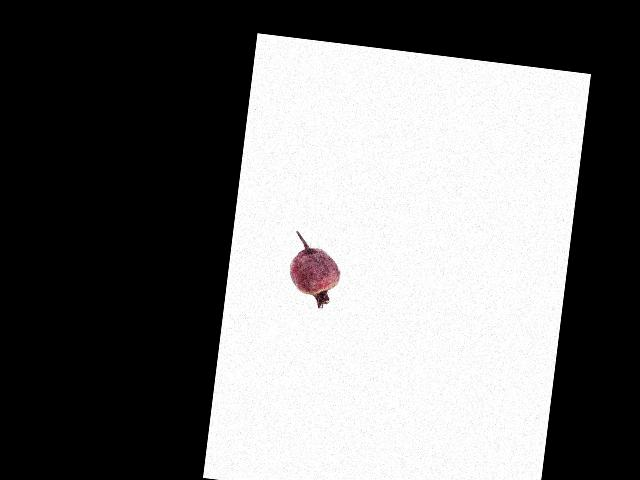beet: (284, 231, 344, 311)
